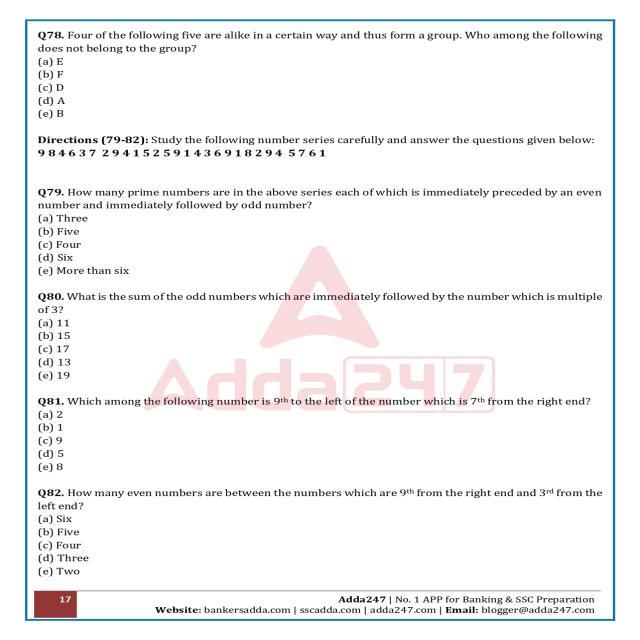Answer_Block: (24, 510, 608, 578), (24, 318, 614, 384), (24, 212, 612, 276), (26, 411, 612, 474), (24, 58, 617, 117)
Instruction: (23, 130, 616, 185)
Question_Answer_Block: (22, 284, 614, 384), (24, 25, 617, 120), (24, 484, 614, 576), (26, 185, 614, 276), (20, 393, 617, 473)
Question_Block: (19, 21, 617, 57), (22, 286, 614, 318), (23, 184, 616, 212), (15, 485, 617, 510), (22, 397, 614, 412)
Question_Paper_Area: (23, 28, 611, 583)
